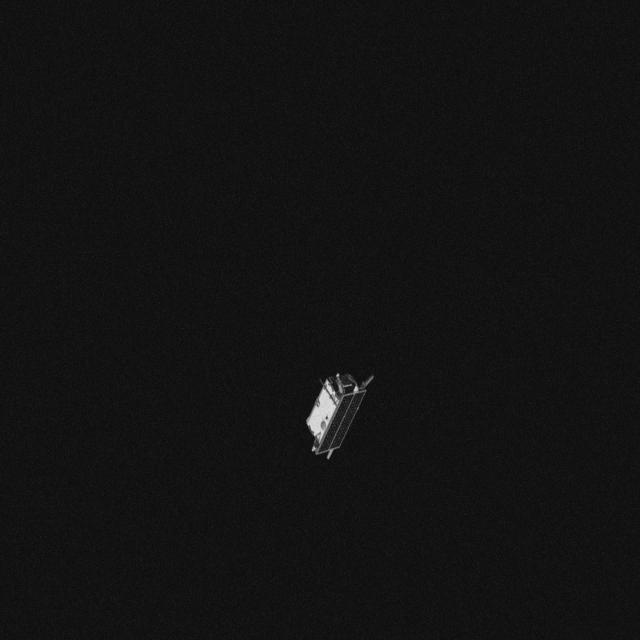satellite: (298, 364, 376, 474)
